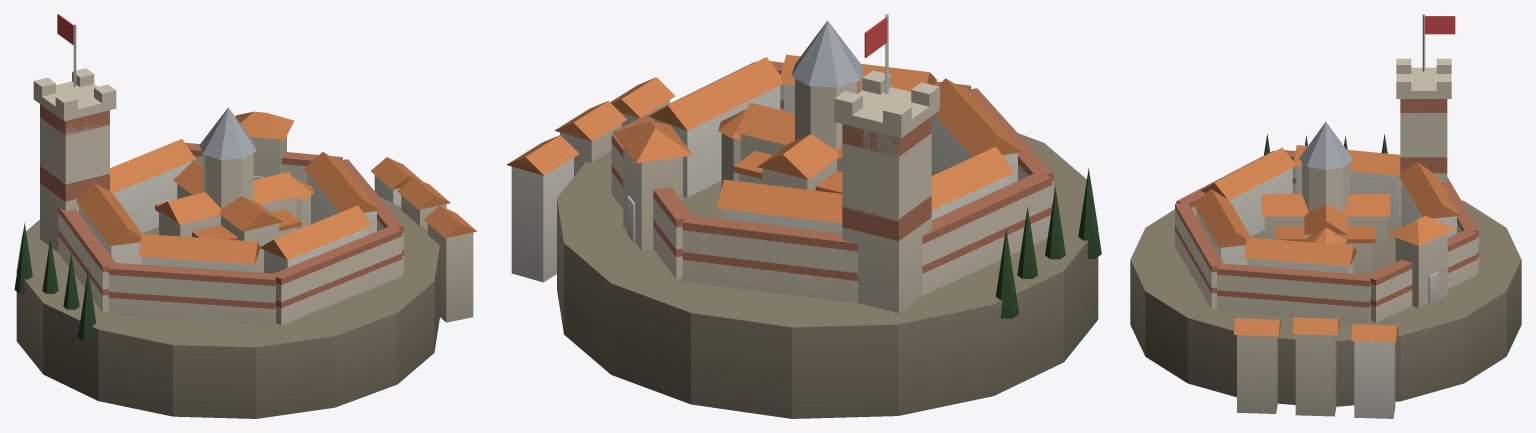
The model's file is abbey_byz_b.glb.
The picture shows the model from 3 angles, left to right: view 1: azimuth 30°, elevation 25°; view 2: azimuth 150°, elevation 25°; view 3: azimuth 270°, elevation 25°; orthographic projection. The views are drawn at different scales.
Parts seen in each view (by area): view 1: abbey_byz_b, Cube.035; view 2: abbey_byz_b, Cube.035; view 3: abbey_byz_b.
Boxes of the visible parts, x1,y1,x2,y2 form: abbey_byz_b: (14, 14, 476, 418); Cube.035: (56, 117, 109, 164); abbey_byz_b: (506, 14, 1101, 418); Cube.035: (842, 117, 931, 221); abbey_byz_b: (1130, 14, 1521, 418).
Bounding box in the file's own units: 2.15 × 1.5 × 2.
